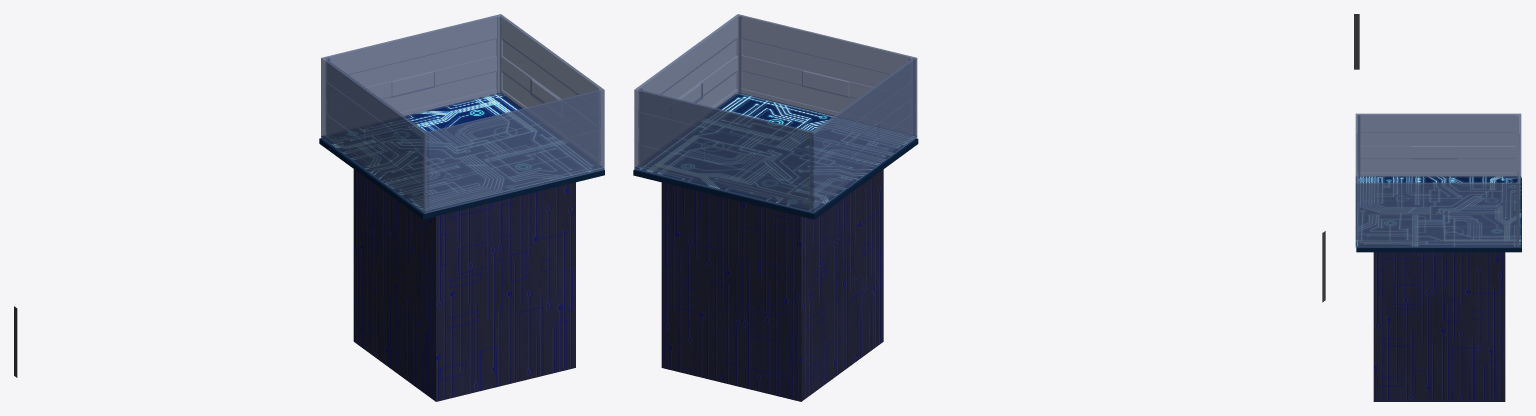
The model's file is Stage.fbx.
The picture shows the model from 3 angles, left to right: view 1: azimuth 30°, elevation 25°; view 2: azimuth 150°, elevation 25°; view 3: azimuth 270°, elevation 25°; orthographic projection. The views are drawn at different scales.
Parts seen in each view (by area): view 1: dodai, kabe, yuka, pCube17; view 2: dodai, kabe, yuka, pCube17; view 3: kabe, dodai, yuka, pCube17, Stage1.
Boxes of the visible parts, x1,y1,x2,y2 form: dodai: [353, 169, 575, 401]; kabe: [321, 14, 604, 213]; yuka: [321, 93, 604, 212]; pCube17: [319, 138, 604, 219]; dodai: [661, 169, 883, 401]; kabe: [634, 14, 917, 213]; yuka: [634, 92, 916, 211]; pCube17: [633, 138, 918, 219]; kabe: [1355, 113, 1521, 247]; dodai: [1373, 252, 1505, 401]; yuka: [1356, 176, 1520, 245]; pCube17: [1356, 177, 1521, 252]; Stage1: [1354, 14, 1359, 69].
Size of the model in its own units: 1989 by 910 by 615.
5 materials, 2 textured.
